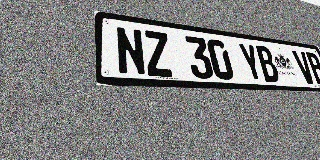0: (206, 38, 235, 80)
3: (184, 36, 215, 79)
B: (254, 45, 281, 82), (304, 52, 320, 85)
N: (115, 26, 147, 76)
V: (291, 50, 317, 84)
Y: (237, 43, 265, 82)
Z: (142, 30, 174, 77)
